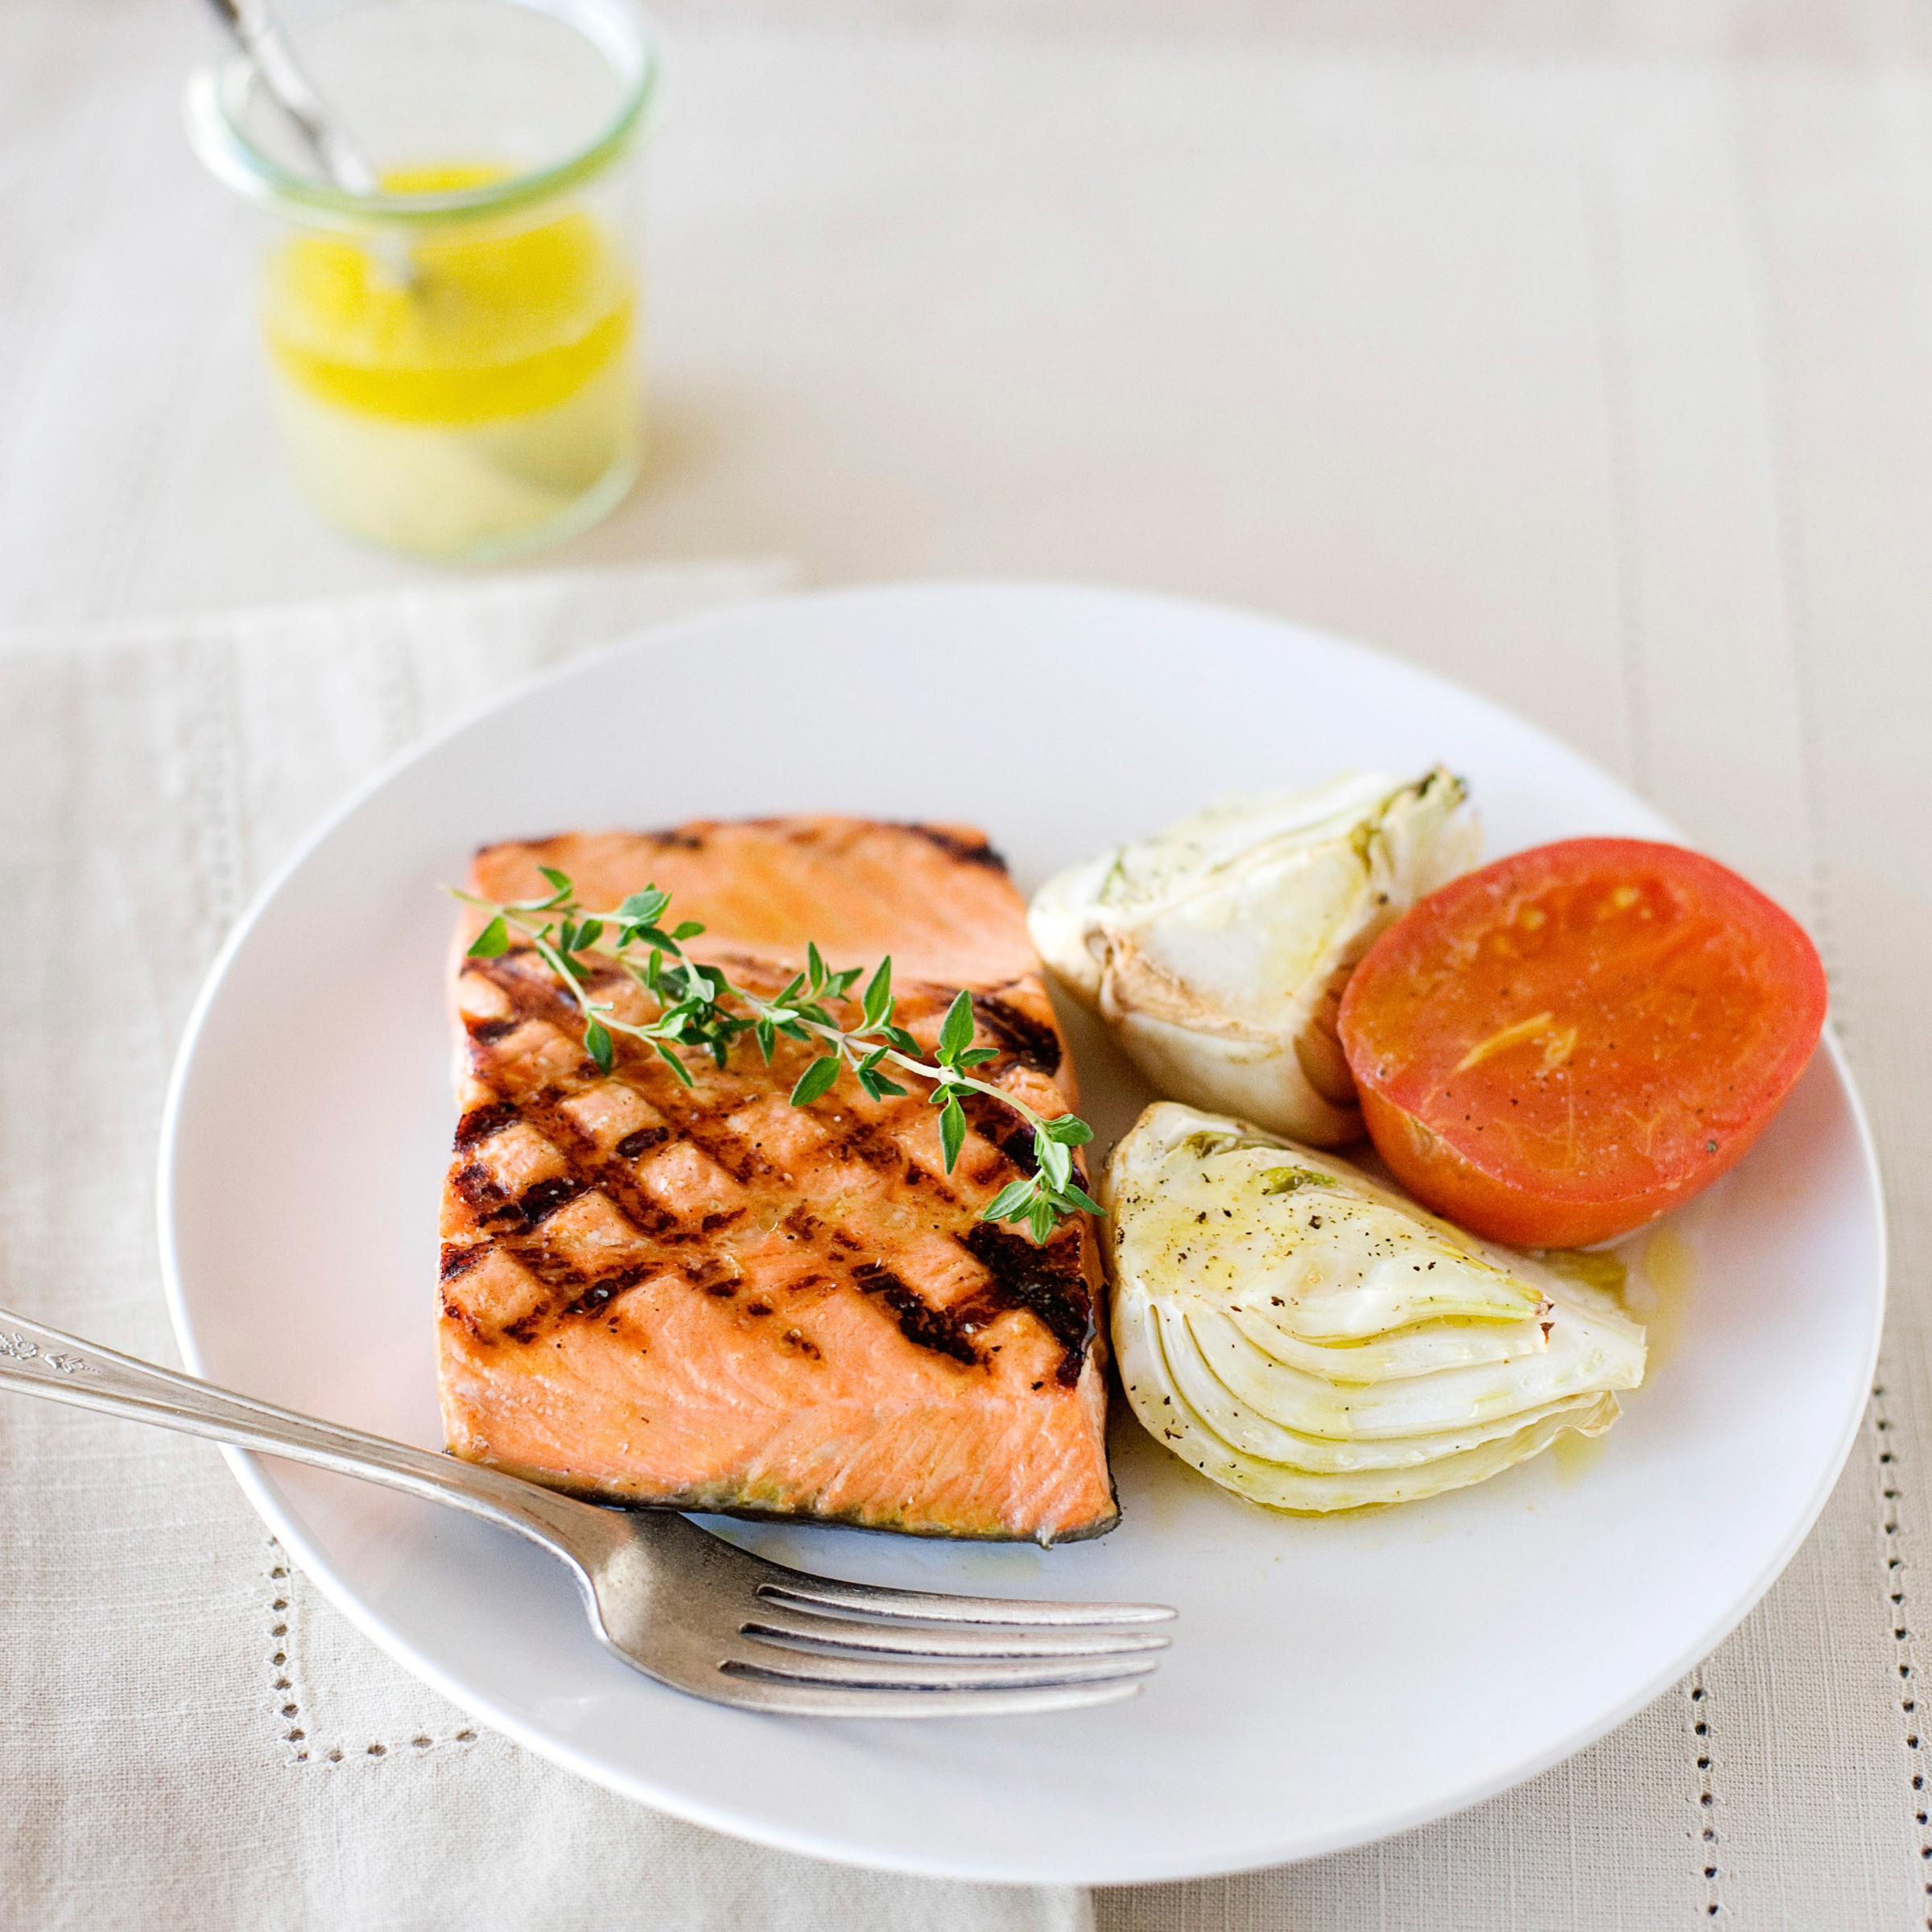background: (961, 619, 1932, 1932)
